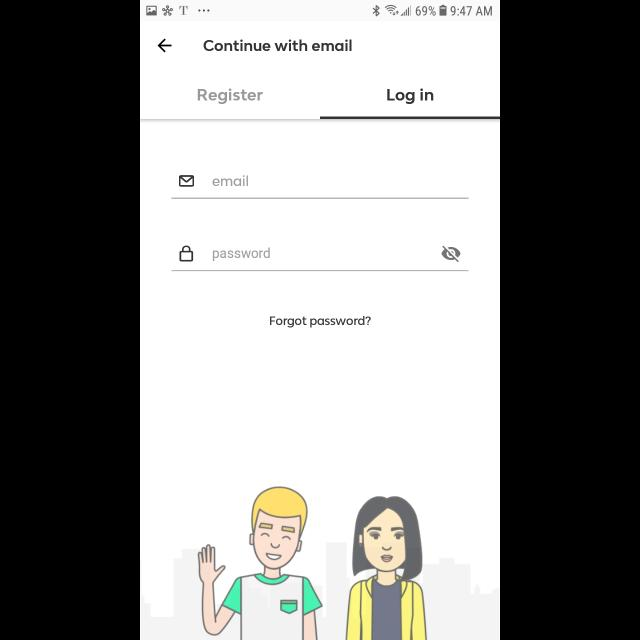icon: (441, 245, 461, 262), (180, 246, 194, 262), (158, 39, 172, 53), (180, 176, 194, 188)
image: (140, 486, 500, 640)
input: (172, 246, 468, 272), (172, 175, 468, 199)
text: (204, 40, 352, 52), (270, 316, 372, 328), (197, 88, 263, 104), (213, 248, 270, 262), (386, 88, 434, 104), (214, 176, 248, 187)
uppertaskbar: (140, 1, 500, 21)
